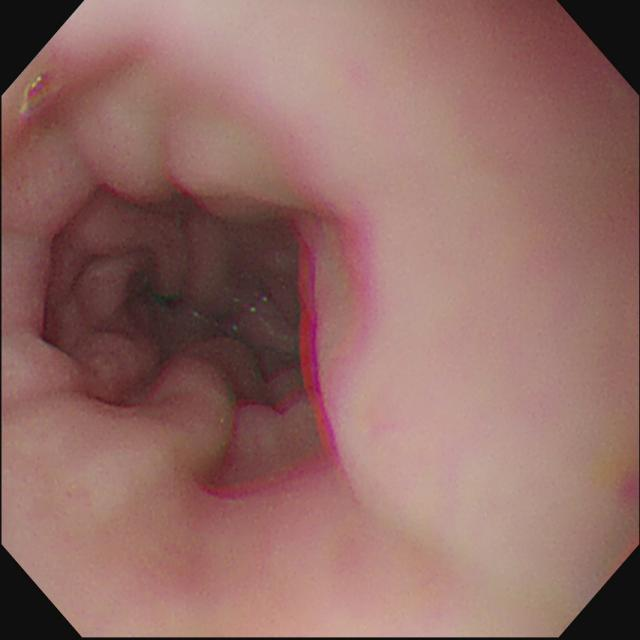E: (135, 268, 189, 318)
U: (290, 243, 339, 461)
